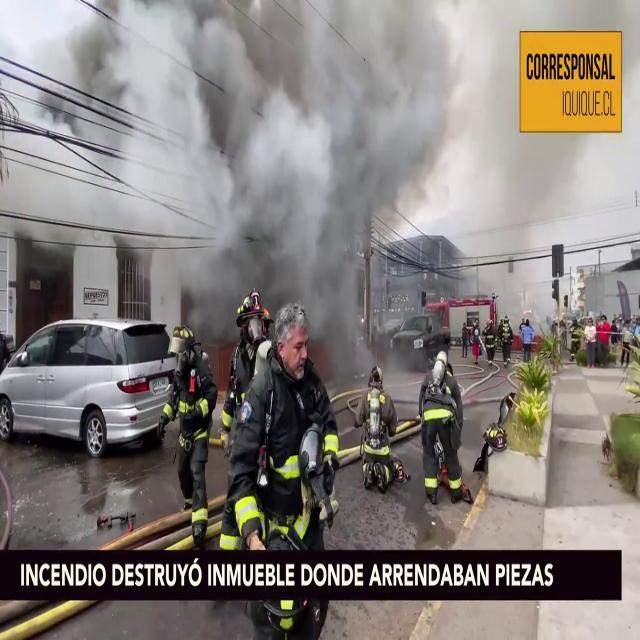Smoke: (24, 1, 452, 323)
